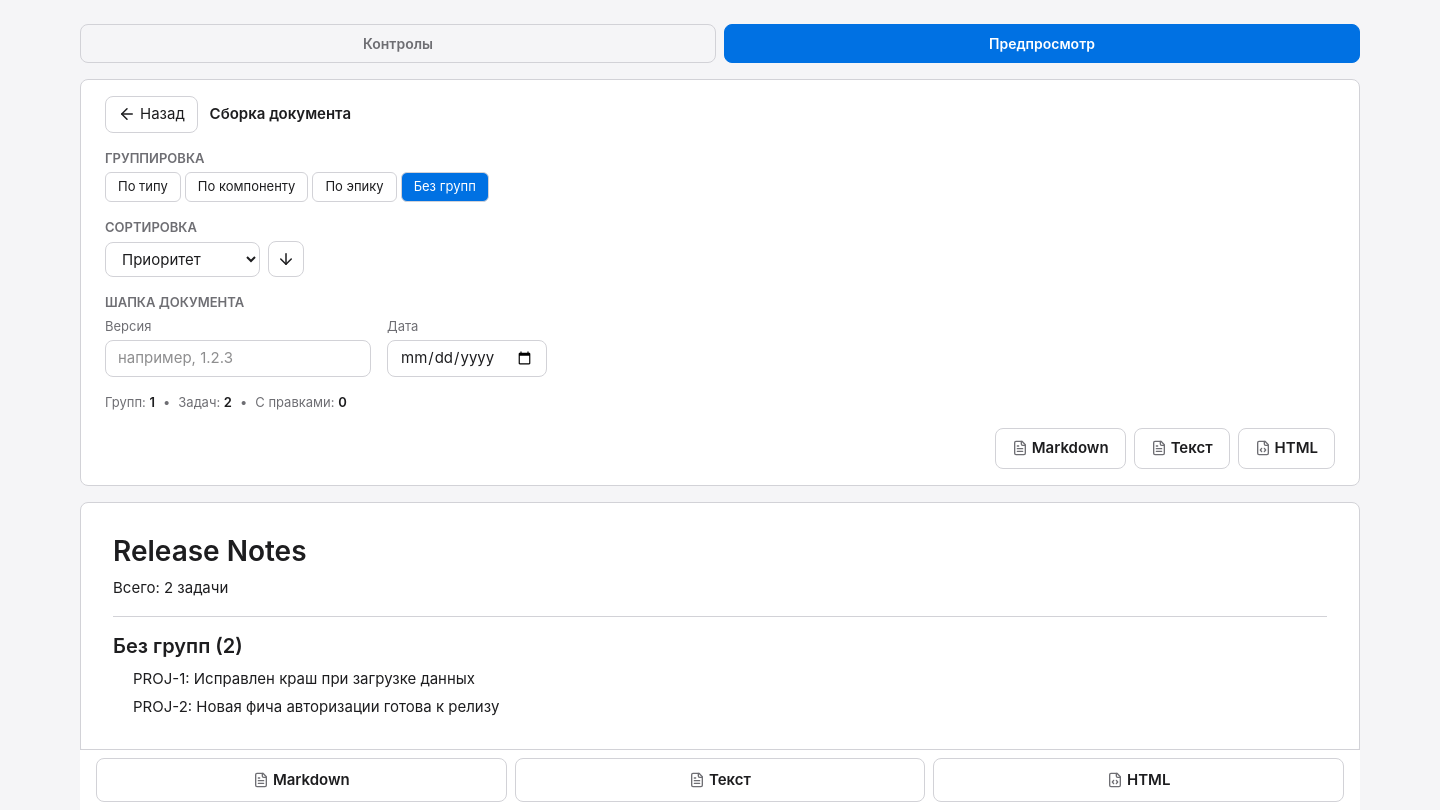
Test case: ExportPage › export buttons (D-22, D-40, EXP-01/02/03) › if downloadFile throws, shows the error box "Не удалось сформировать файл. Попробуйте ещё раз." (role=alert) and does NOT clear edits
Step 1. Click the button with aria-label "Экспорт в текст" → (1182, 448), box [1134, 428, 1230, 468]
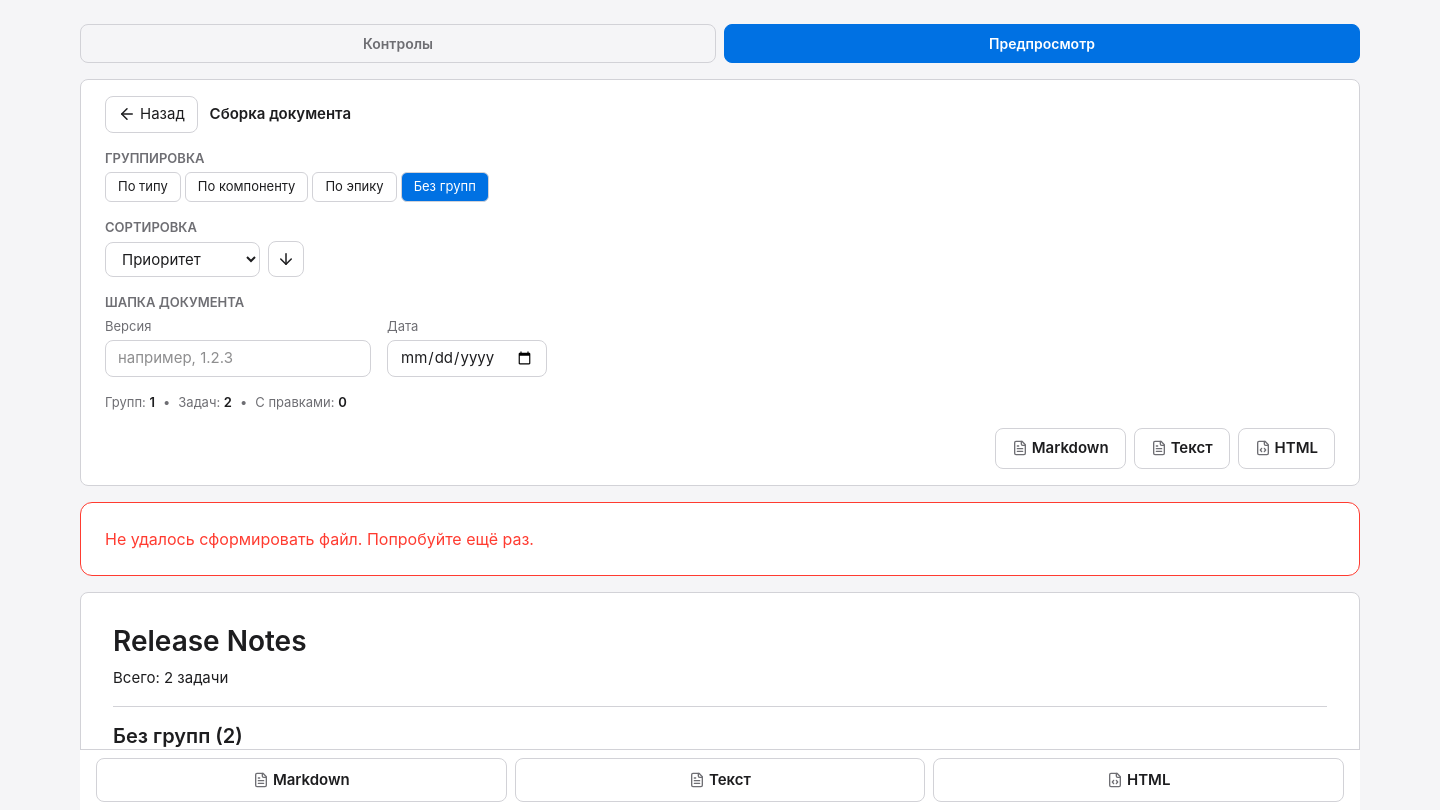
Expected: the message reads "Не удалось сформировать файл. Попробуйте ещё раз.", [105, 528, 534, 548]
